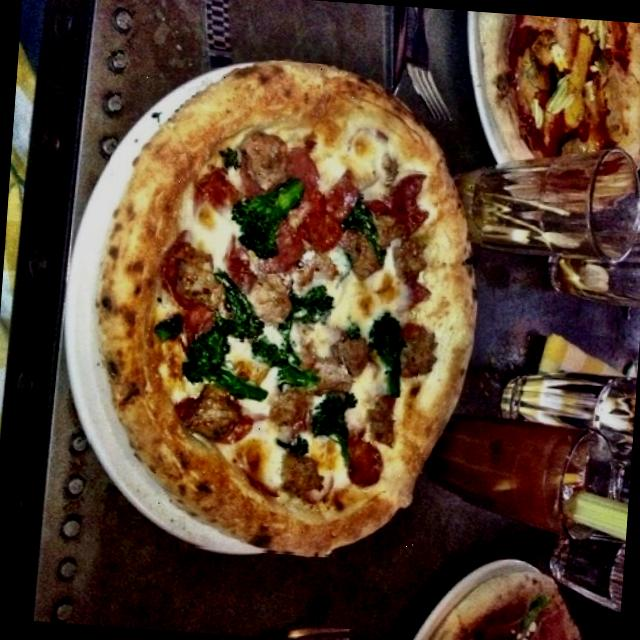basil: (177, 326, 278, 412), (226, 162, 302, 274), (346, 311, 422, 398), (300, 378, 374, 466), (250, 331, 326, 402), (330, 193, 401, 267), (272, 274, 339, 338), (220, 281, 274, 342)
pizza: (99, 60, 475, 554), (479, 11, 640, 160), (429, 571, 580, 640), (152, 232, 225, 311), (376, 169, 439, 249), (262, 147, 326, 209), (331, 432, 395, 490), (180, 174, 247, 227), (253, 232, 313, 276)
